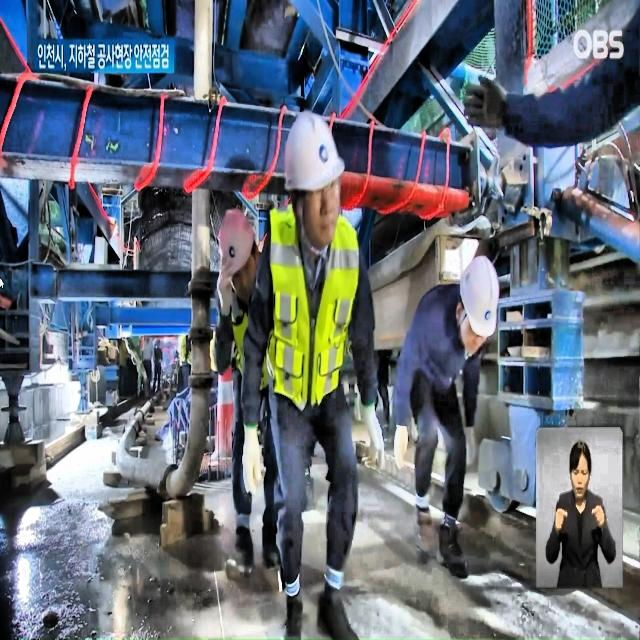safety_helmet: (286, 111, 344, 197), (458, 255, 500, 339), (219, 202, 255, 280)
safety_jacket: (273, 206, 365, 401)
